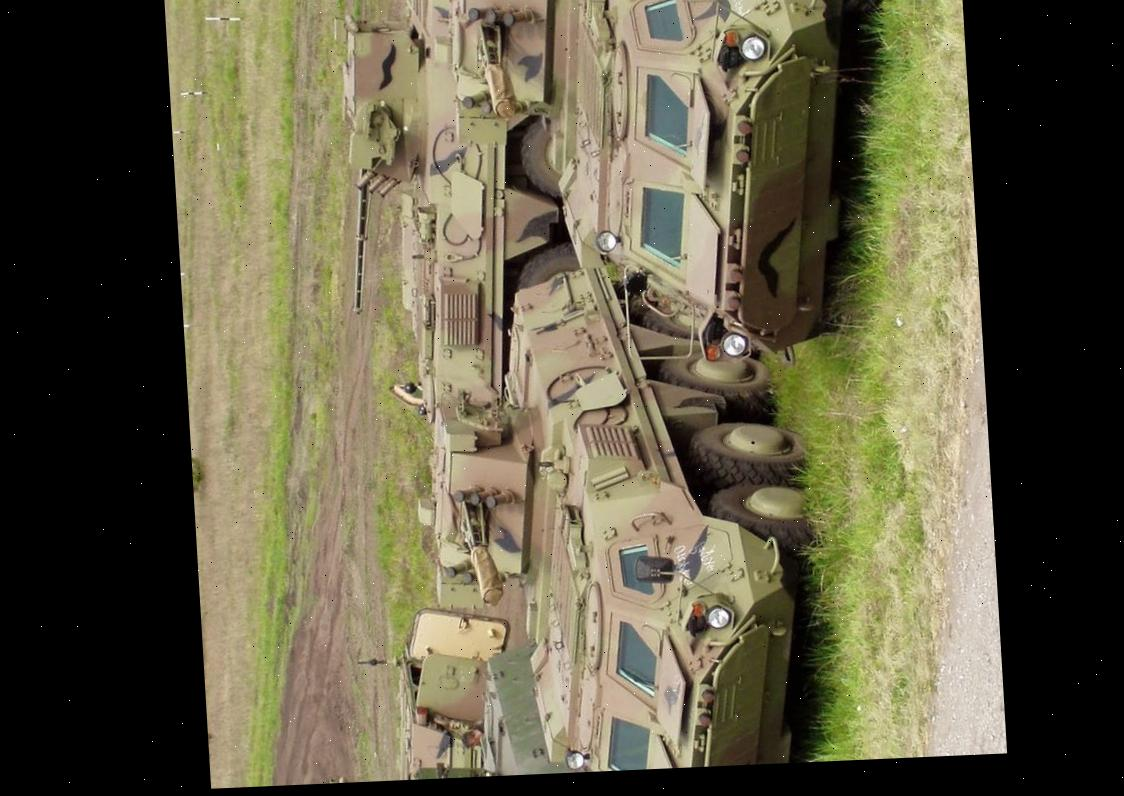armored_car: (410, 261, 832, 779), (465, 0, 898, 375)
